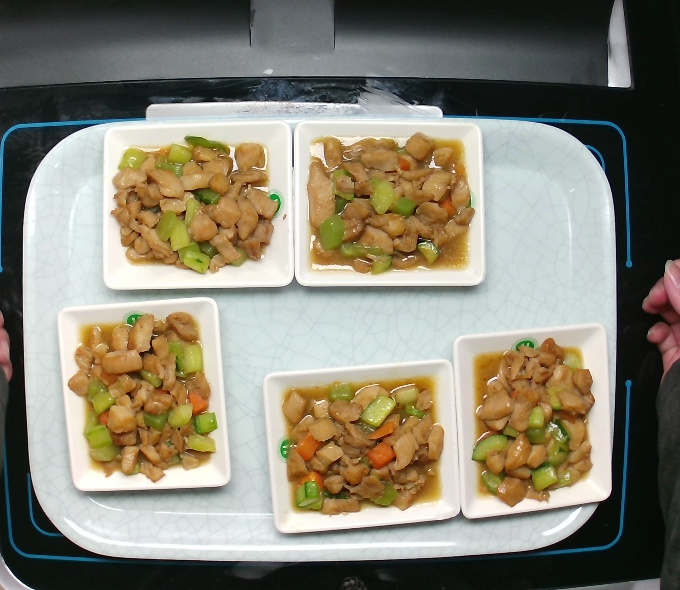wcq-GongBaoJiDing: (67, 313, 221, 481), (108, 137, 288, 276), (302, 135, 482, 274), (282, 371, 446, 515), (469, 340, 592, 504)
